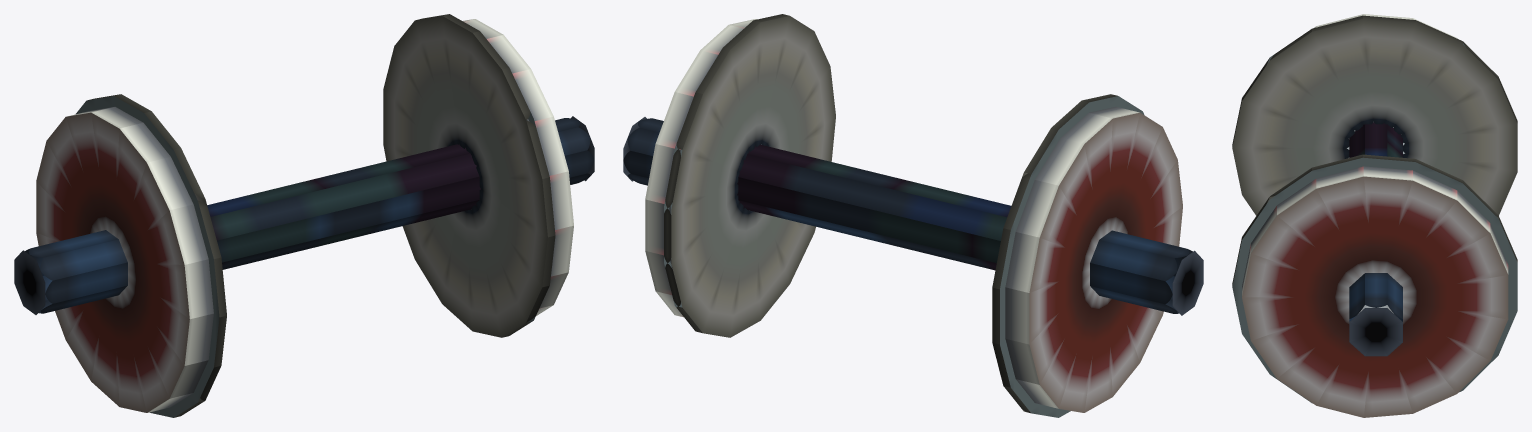
The model's file is ss3_wheel.obj.
3 views of the same model, side by side, from view 1: azimuth 30°, elevation 25°; view 2: azimuth 150°, elevation 25°; view 3: azimuth 270°, elevation 25° (orthographic). The views are drawn at different scales.
Parts seen in each view (by area): view 1: lundui_selection; view 2: lundui_selection; view 3: lundui_selection.
Boxes of the visible parts, x1,y1,x2,y2 form: lundui_selection: [14, 14, 594, 417]; lundui_selection: [623, 14, 1203, 417]; lundui_selection: [1232, 14, 1517, 417].
Size of the model in its own units: 2.31 by 1.2 by 1.2.
